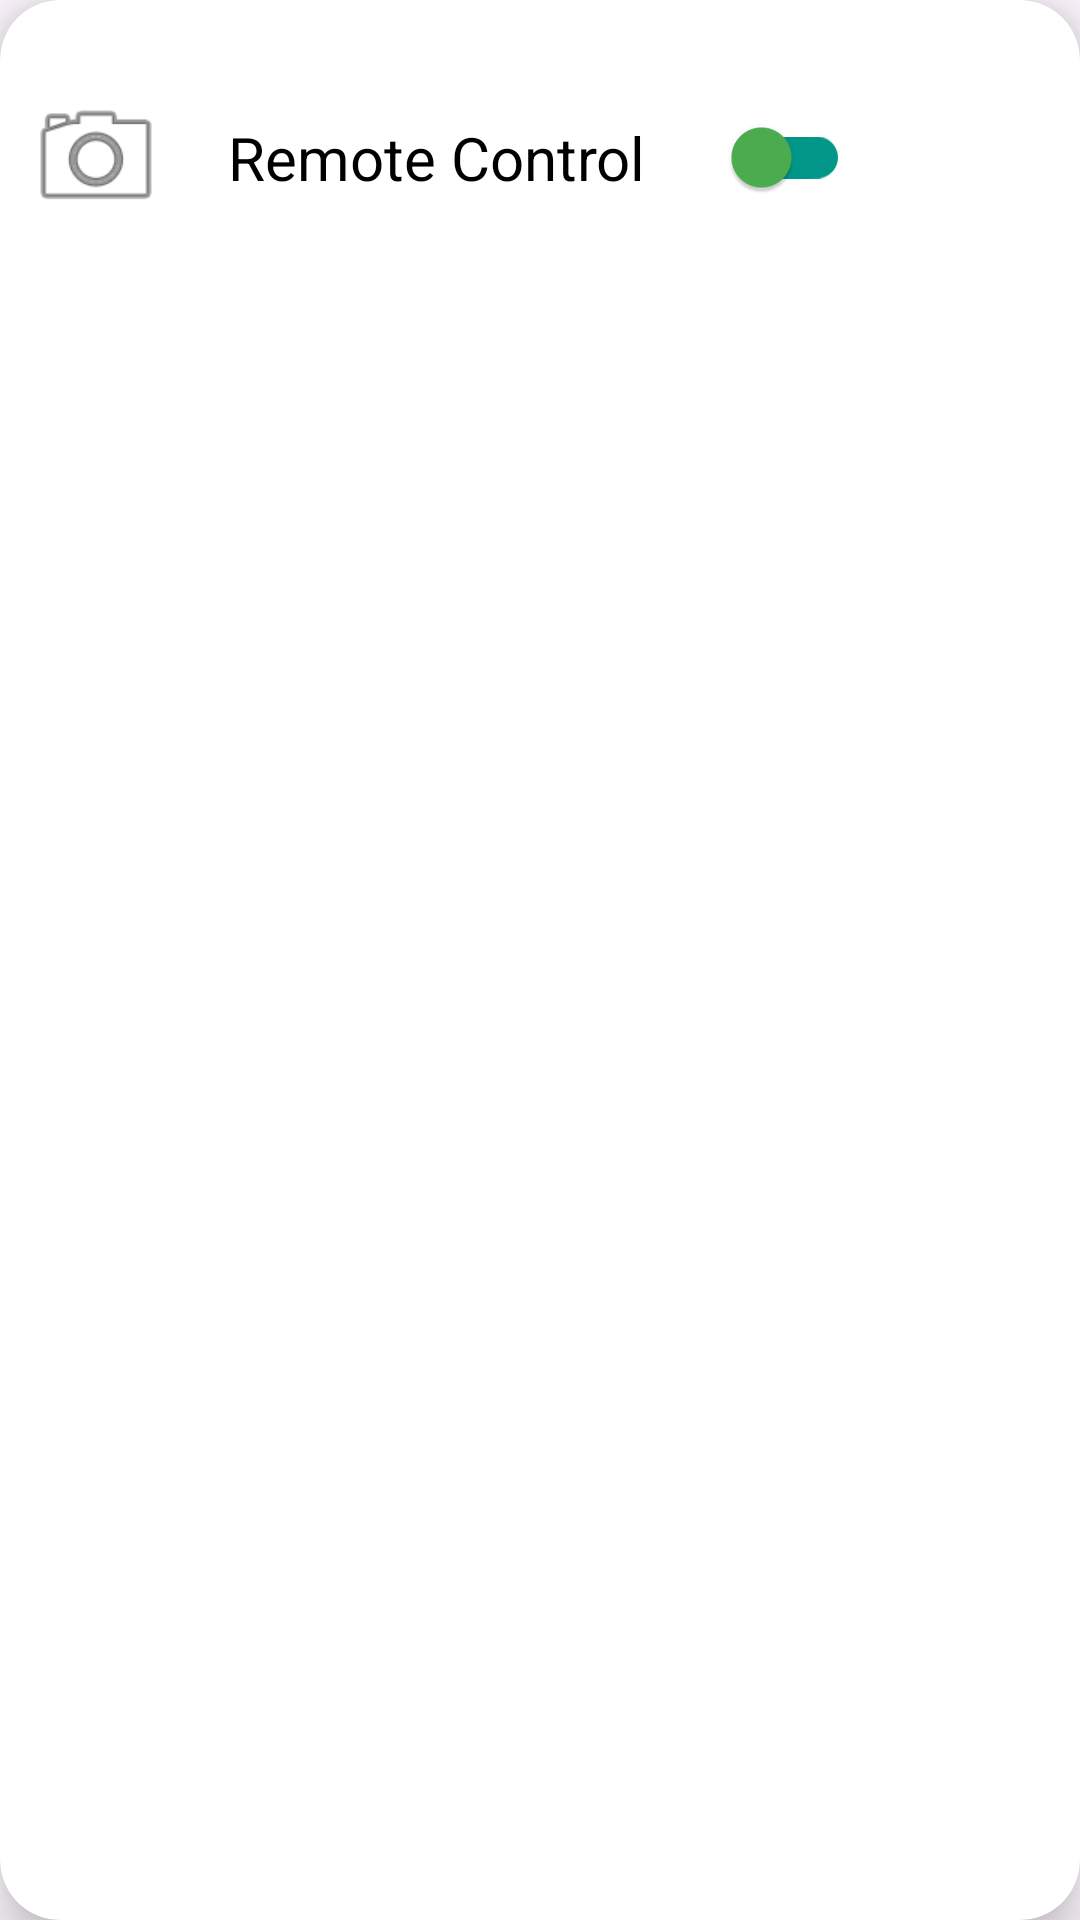

Locate icon controls on the screen. Image size 1080*1920, boxes as [x1=x1, y1=y1, x2=x2, y2=y2].
camera: [x1=40, y1=110, x2=152, y2=199]
